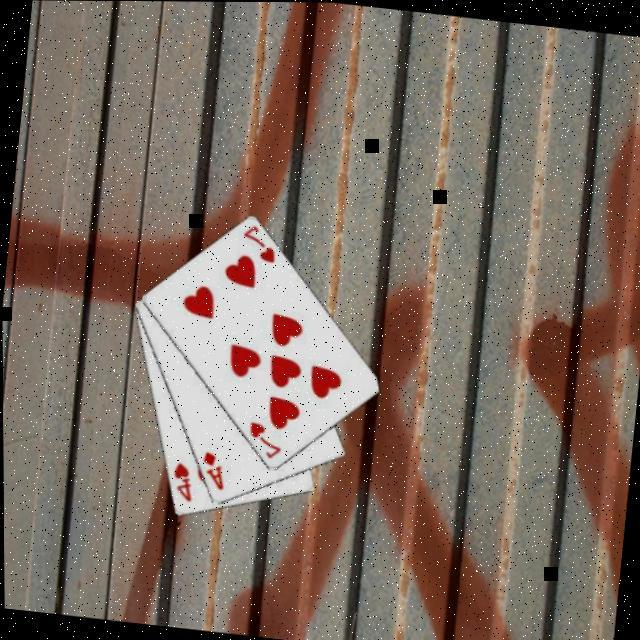4H: (166, 461, 194, 506)
7H: (240, 418, 284, 464), (235, 222, 279, 268)
AD: (195, 449, 228, 495)
